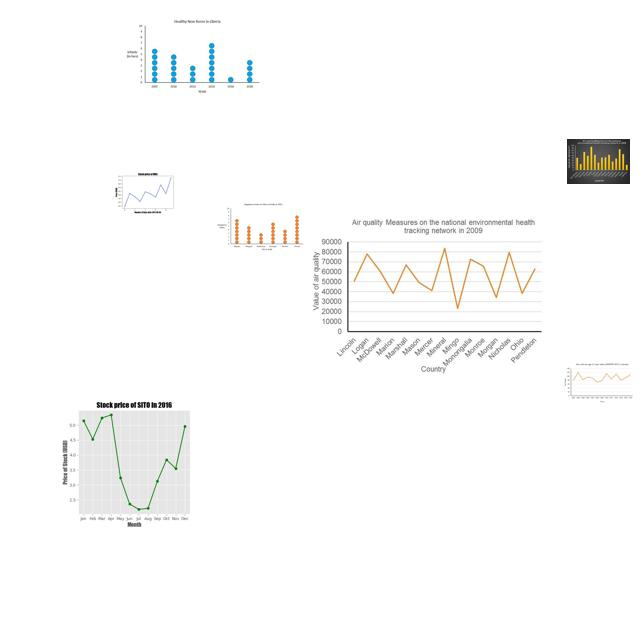Graph: (308, 215, 546, 378), (42, 394, 222, 529), (122, 15, 263, 98), (215, 202, 304, 253), (114, 167, 180, 217), (563, 362, 634, 403), (567, 139, 630, 184)
